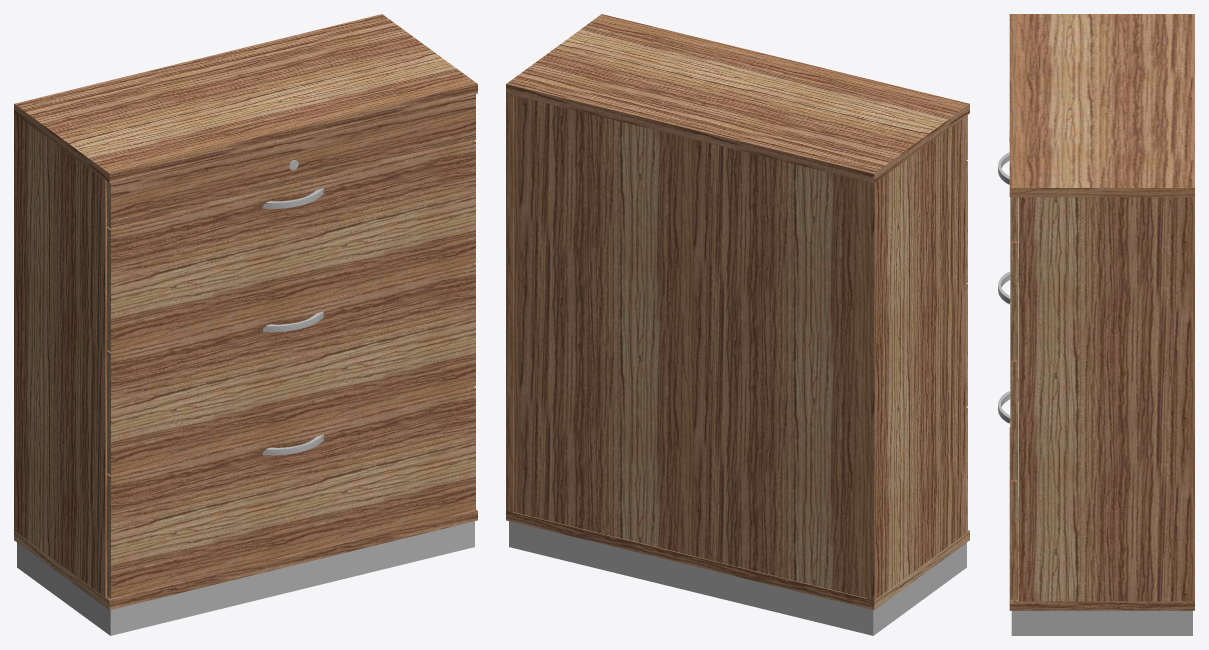
Rendered from baseline_3OH_100x45_vertical_cabinet_3szuflady_finala.fbx.
3 renders of one model, left to right at view 1: azimuth 30°, elevation 25°; view 2: azimuth 150°, elevation 25°; view 3: azimuth 270°, elevation 25°, orthographic. The views are drawn at different scales.
Visible parts, largest first — view 1: drewno_mesh (×5), metal_mesh; view 2: drewno_mesh, metal_mesh; view 3: drewno_mesh (×5), metal_mesh.
Boxes of the visible parts, box(x1,y1,x2,y2) form: drewno_mesh (×5): box(14, 14, 477, 609); metal_mesh: box(17, 521, 474, 635); drewno_mesh: box(506, 14, 969, 609); metal_mesh: box(509, 521, 966, 635); drewno_mesh (×5): box(1009, 14, 1194, 610); metal_mesh: box(1011, 610, 1192, 635).
Size of the model in its own units: 100 by 120 by 47.81.
